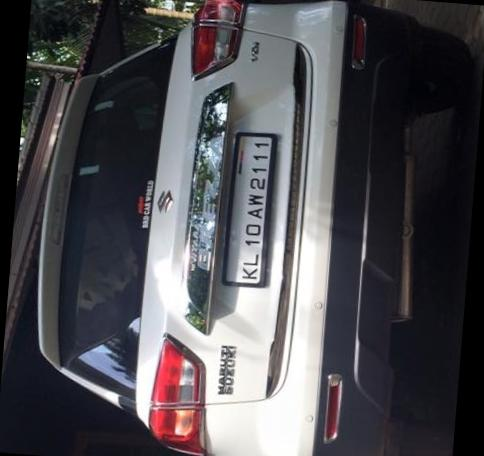plate: (213, 118, 296, 295)
